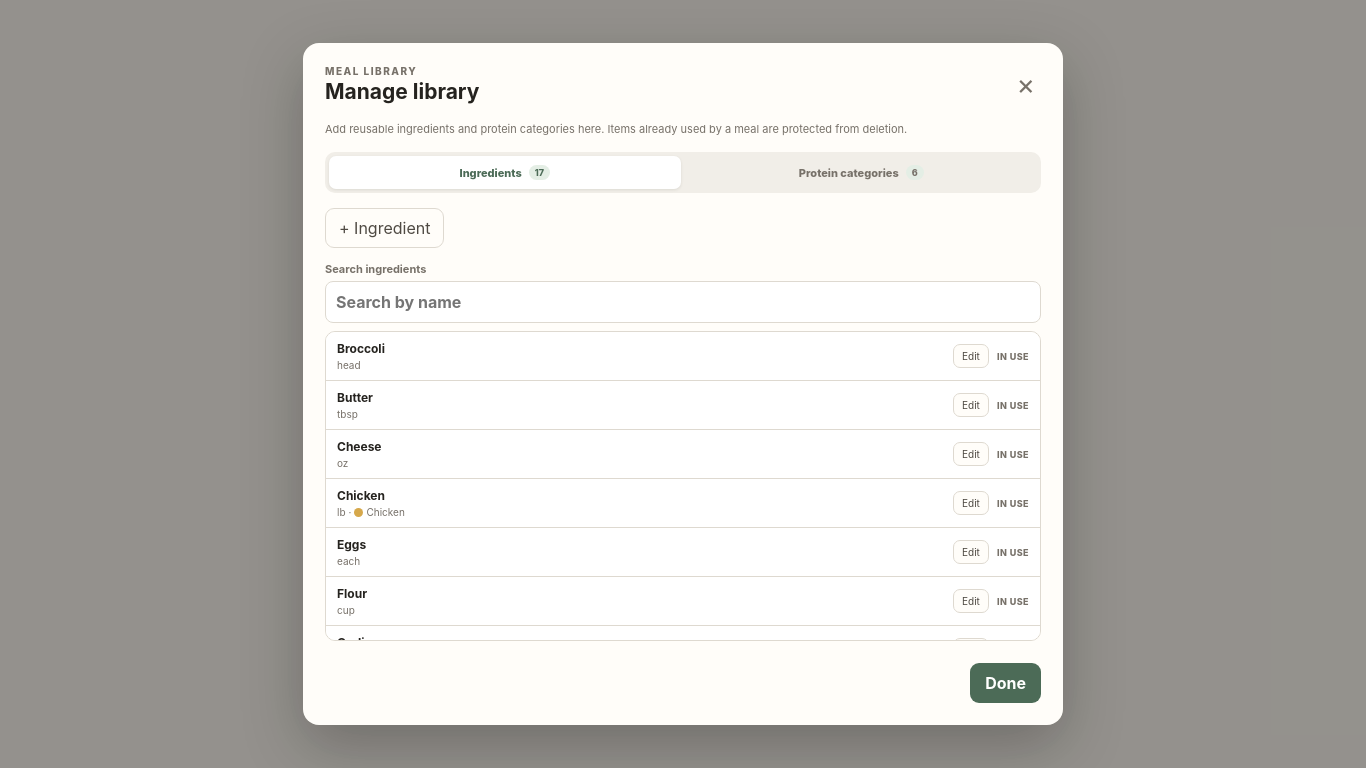
Test: MealLibraryManager › blocks duplicate ingredient names case-insensitively
The width and height of the screenshot is (1366, 768).
Click the button "+ Ingredient" at (385, 228), box x1=325 y1=208 x2=444 y2=248
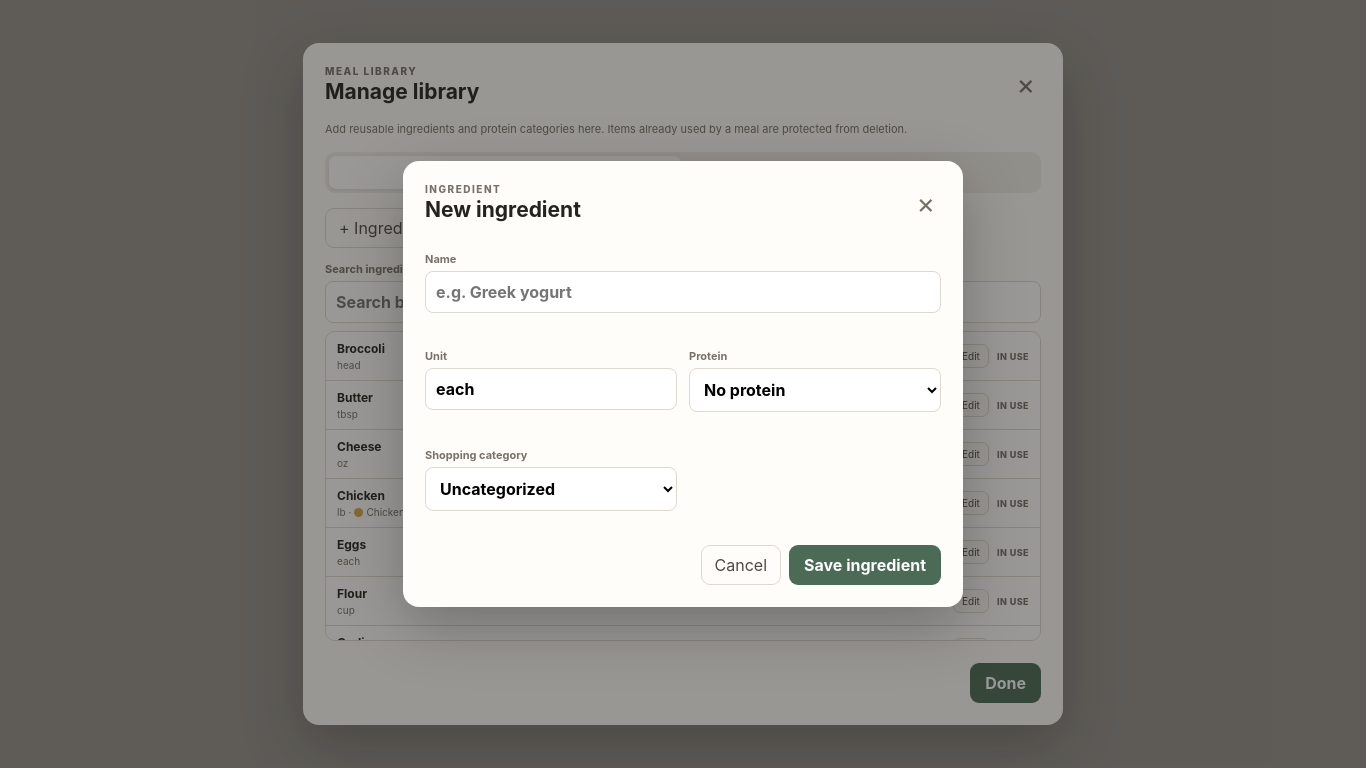
Type " eggs " into the field labelled "Name" at (683, 292), box x1=425 y1=271 x2=941 y2=313
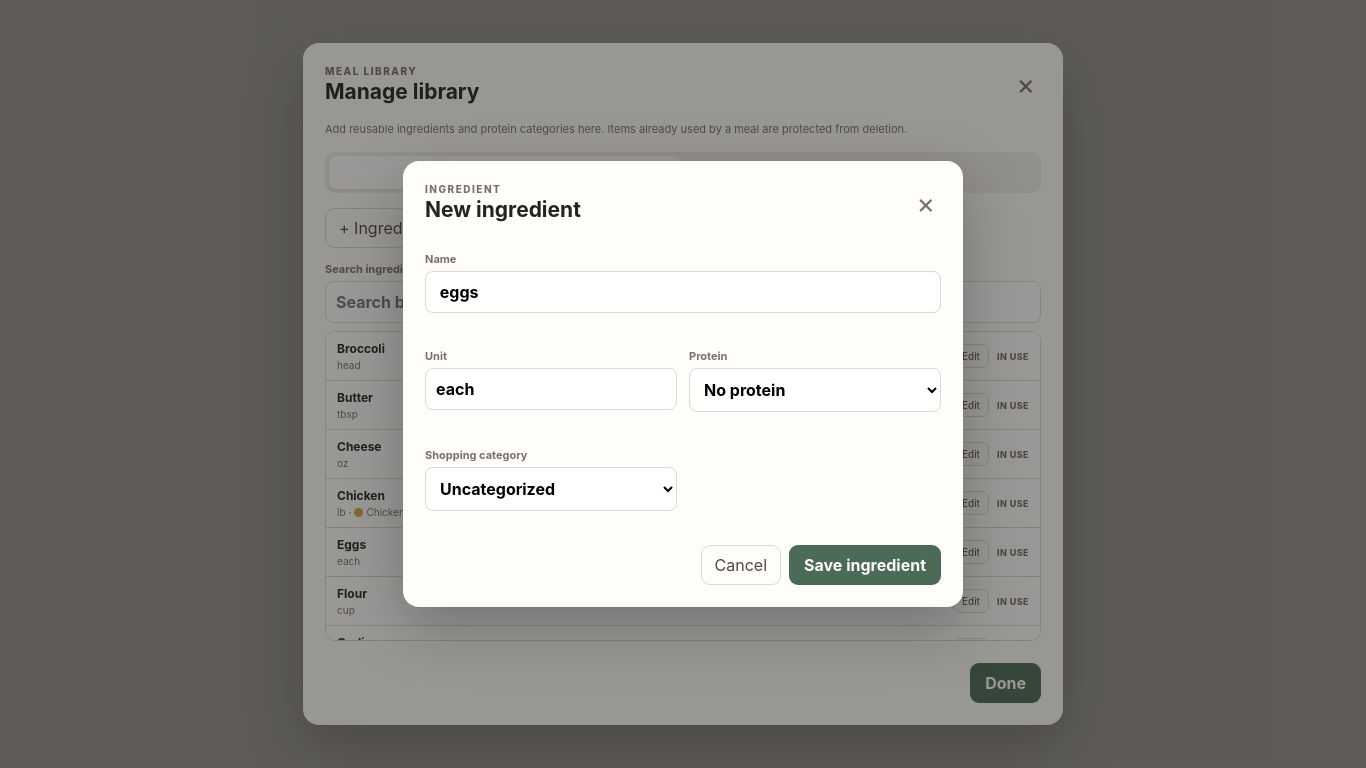
Click the button "Save ingredient" at (865, 565), box x1=789 y1=545 x2=941 y2=585
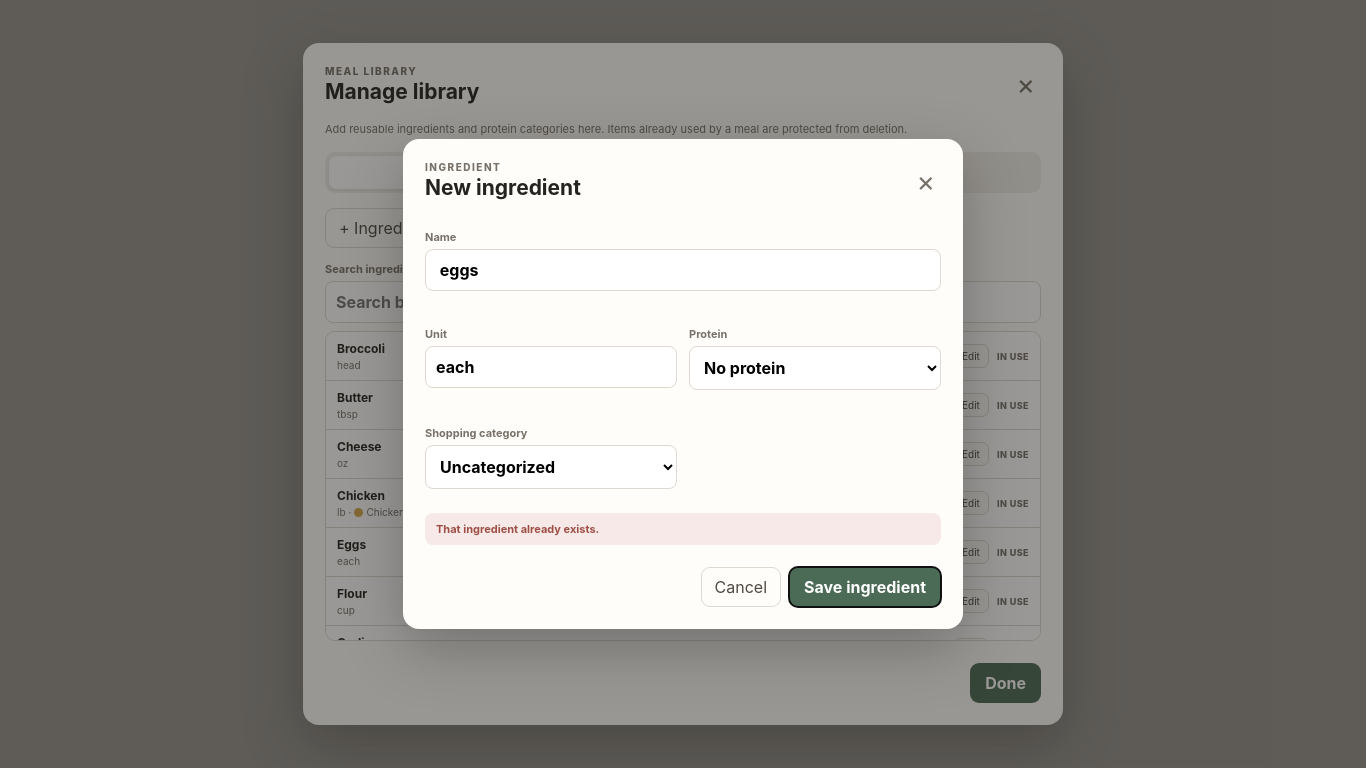
Check: the message shows "already exists", box x1=436 y1=522 x2=599 y2=536
